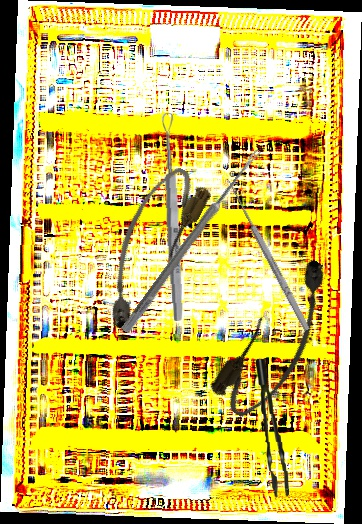Cannula: (204, 251, 353, 427), (82, 159, 216, 337)
Hook Surgical: (218, 177, 313, 336)
Surgical Spoon: (120, 146, 263, 335), (160, 112, 186, 322)
Tissue Forceps: (255, 358, 290, 498)
